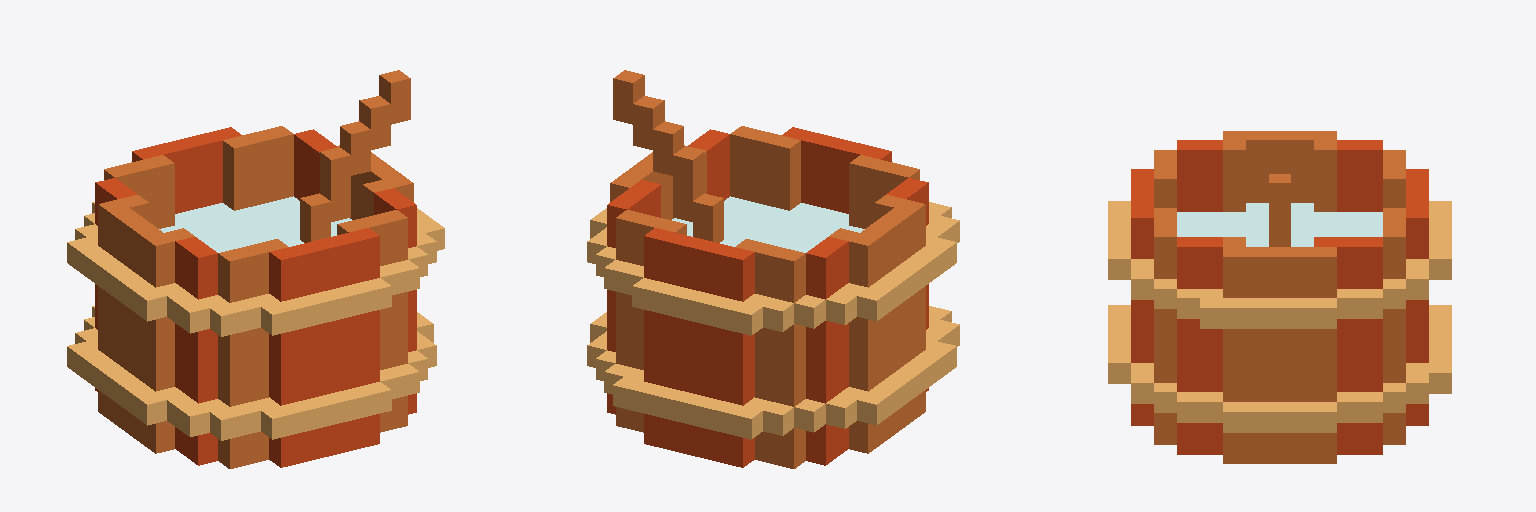
The picture shows the model from 3 angles: view 1: azimuth 30°, elevation 25°; view 2: azimuth 150°, elevation 25°; view 3: azimuth 270°, elevation 25°; orthographic projection.
Parts seen in each view (by area): view 1: Env_Obj_SaunaBucket; view 2: Env_Obj_SaunaBucket; view 3: Env_Obj_SaunaBucket.
Boxes of the visible parts, x1=… form: Env_Obj_SaunaBucket: x1=67, y1=70, x2=444, y2=468; Env_Obj_SaunaBucket: x1=587, y1=70, x2=959, y2=468; Env_Obj_SaunaBucket: x1=1108, y1=131, x2=1451, y2=463.
Size of the model in its own units: 1.5 by 1.4 by 1.5.
1 materials, 1 textured.